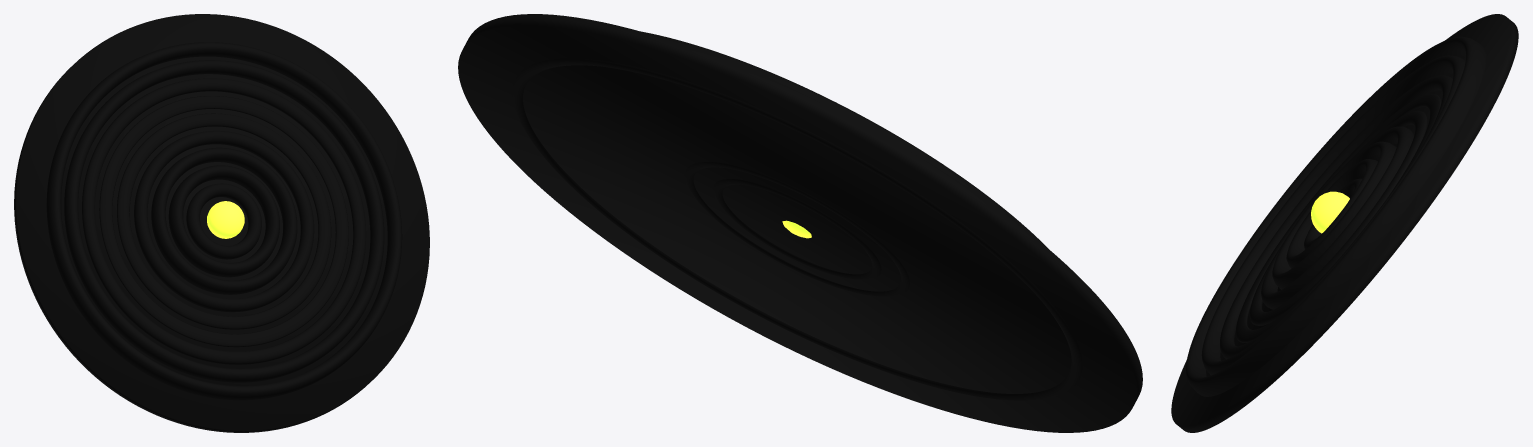
3 renders of one model, left to right at view 1: azimuth 30°, elevation 25°; view 2: azimuth 150°, elevation 25°; view 3: azimuth 270°, elevation 25°, orthographic. The views are drawn at different scales.
Parts seen in each view (by area): view 1: disc, ring_08, ring_07, ring_06, ring_05, ring_04, ring_03, ring_02, ring_01, ring_00, core; view 2: disc, ring_08, ring_02, ring_01; view 3: ring_08, disc, ring_07, ring_06, ring_03, ring_02, ring_04, ring_05, ring_01, core, ring_00.
Boxes of the visible parts, x1,y1,x2,y2 form: disc: (14, 14, 429, 432); ring_08: (46, 42, 402, 400); ring_07: (64, 60, 384, 382); ring_06: (82, 78, 366, 364); ring_05: (99, 96, 348, 347); ring_04: (117, 113, 331, 329); ring_03: (134, 130, 314, 312); ring_02: (151, 147, 297, 294); ring_01: (168, 165, 279, 277); ring_00: (186, 183, 261, 259); core: (207, 201, 244, 238); disc: (458, 14, 1142, 432); ring_08: (512, 31, 1082, 400); ring_02: (684, 162, 909, 296); ring_01: (713, 179, 881, 279); ring_08: (1185, 36, 1486, 396); disc: (1171, 14, 1518, 432); ring_07: (1201, 55, 1465, 375); ring_06: (1220, 75, 1452, 359); ring_03: (1261, 126, 1414, 309); ring_02: (1272, 141, 1396, 289); ring_04: (1249, 111, 1427, 325); ring_05: (1236, 93, 1441, 342); ring_01: (1286, 159, 1377, 268); core: (1311, 191, 1349, 233); ring_00: (1304, 178, 1362, 249).
Size of the model in its own units: 3.19 by 2.49 by 2.12.
